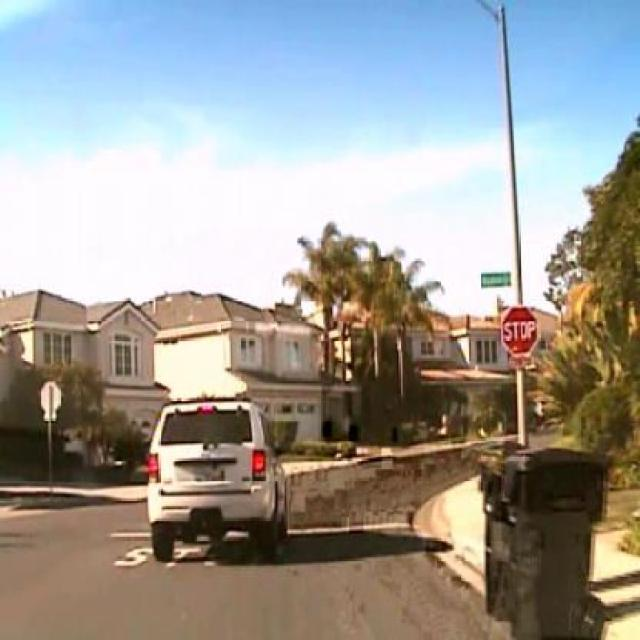stop: (499, 305, 539, 358)
